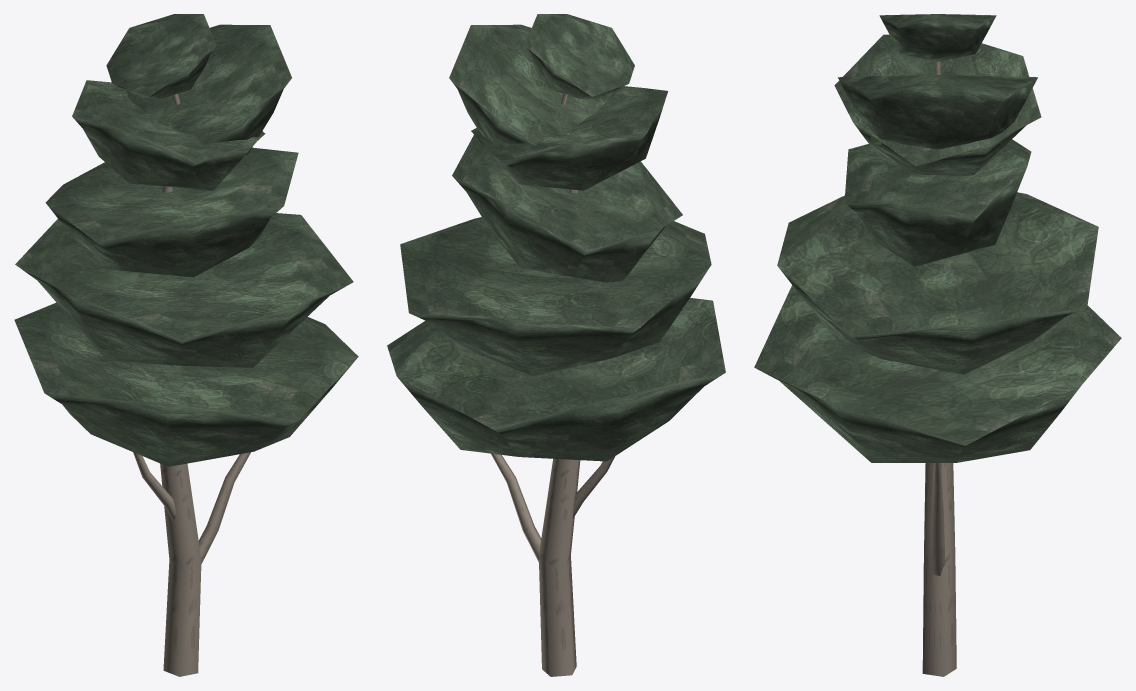
Rendered from AspenTree.fbx.
The picture shows the model from 3 angles, left to right: view 1: azimuth 30°, elevation 25°; view 2: azimuth 150°, elevation 25°; view 3: azimuth 270°, elevation 25°; orthographic projection. The views are drawn at different scales.
Parts seen in each view (by area): view 1: AspenTree; view 2: AspenTree; view 3: AspenTree.
Part boxes in pixels (box(x1,y1,x2,y2)): AspenTree: box(14, 14, 358, 676); AspenTree: box(387, 14, 725, 676); AspenTree: box(754, 14, 1121, 676).
Size of the model in its own units: 3.32 by 6.67 by 3.33.
2 materials, 2 textured.
